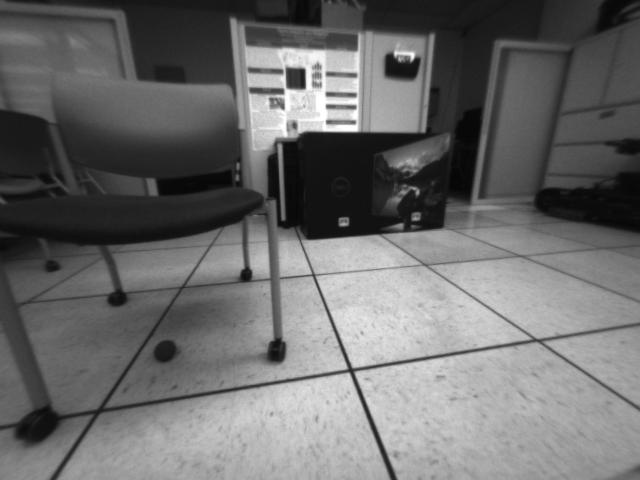dogtoy: (150, 333, 184, 369)
